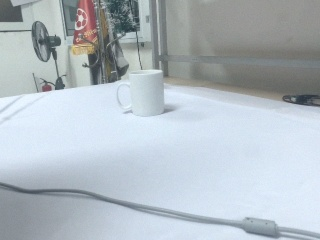cup: (128, 69, 165, 117)
